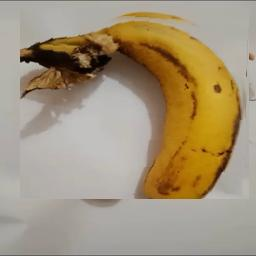Banana Semifresh: (21, 8, 250, 199)
